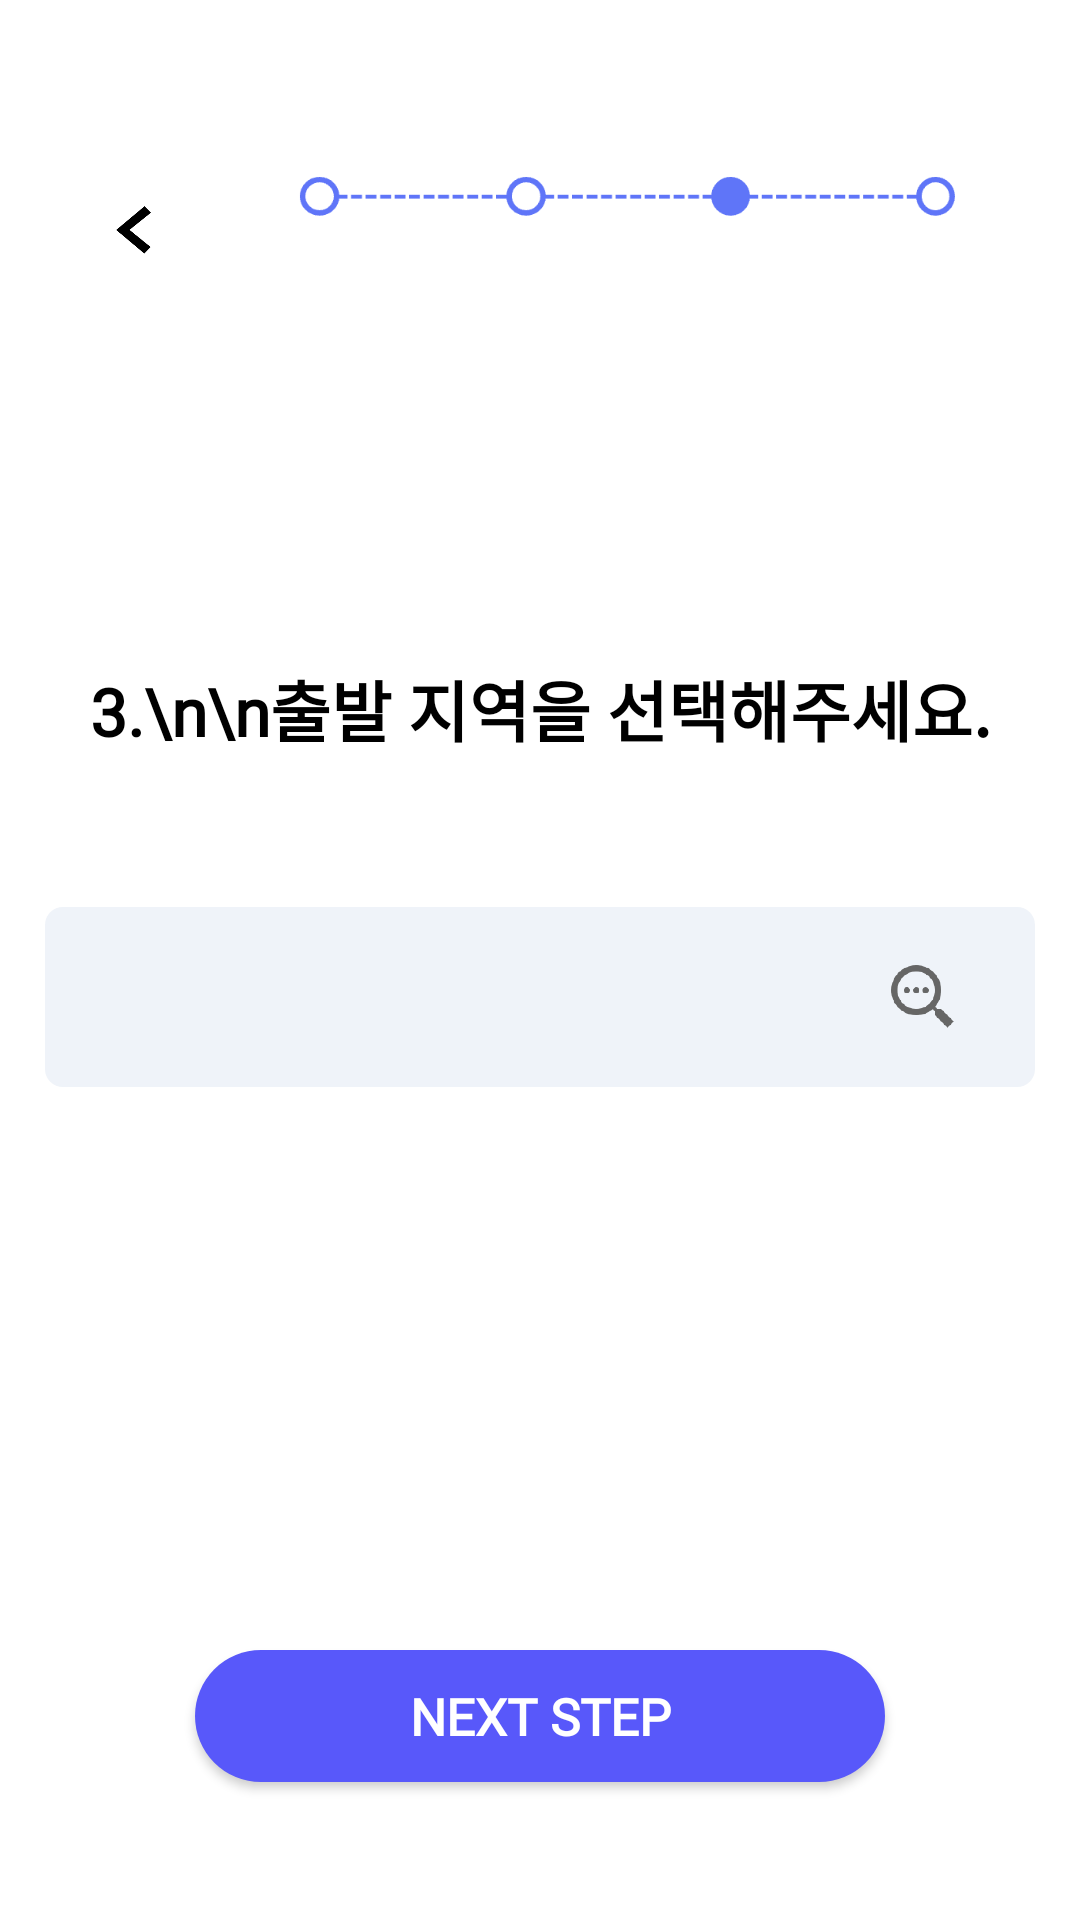

Screen size 1080×1920. Icon name, then its center in pixels as (x=x, y=y):
backbut: (x=133, y=230)
find: (x=922, y=996)
